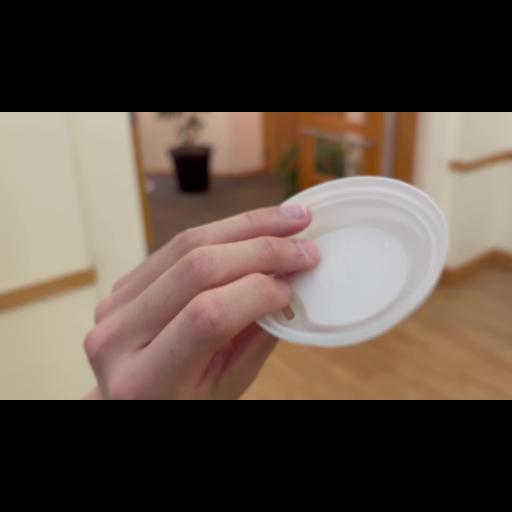lp_cup_lids: (226, 172, 448, 350)
